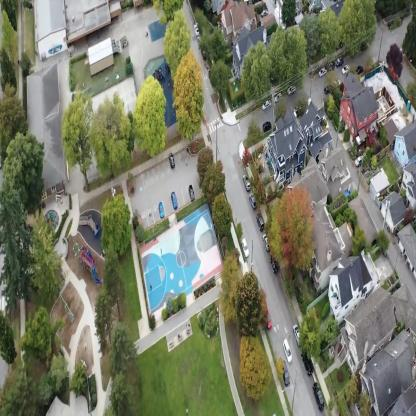Coniferous Tree: (3, 122, 43, 215), (61, 97, 96, 193), (0, 196, 33, 294), (26, 219, 62, 293), (238, 334, 269, 404), (0, 68, 19, 152), (104, 258, 129, 320), (94, 290, 112, 359), (108, 378, 136, 416), (111, 321, 133, 366)
Deciduous Tree: (92, 72, 128, 200), (135, 72, 166, 162), (174, 51, 203, 133), (98, 197, 129, 258), (235, 271, 262, 333)
